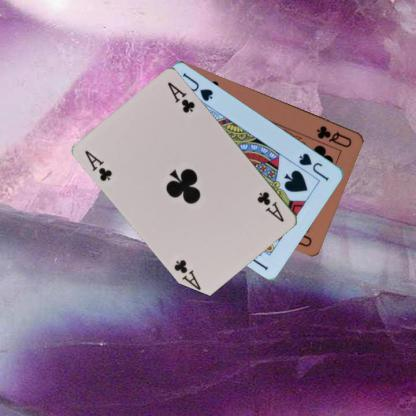Ac: (254, 188, 286, 224), (82, 147, 113, 182)
Js: (297, 150, 330, 183)
Qc: (314, 122, 353, 148)
